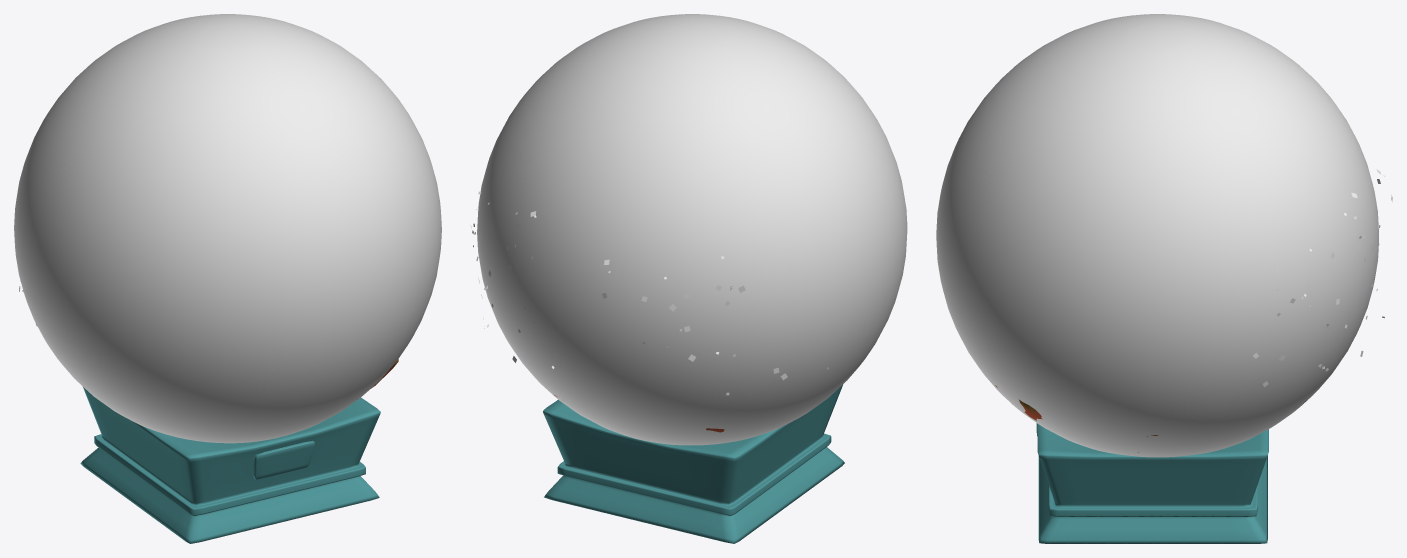
The model's file is treesketchfab1.fbx.
The picture shows the model from 3 angles, left to right: view 1: azimuth 30°, elevation 25°; view 2: azimuth 150°, elevation 25°; view 3: azimuth 270°, elevation 25°; orthographic projection. The views are drawn at different scales.
Parts seen in each view (by area): view 1: ball, Cube; view 2: ball, Cube, flowersecod.708; view 3: ball, Cube.
Boxes of the visible parts, left/top/right/bottom form: ball: left=14, top=14, right=441, bottom=443; Cube: left=80, top=386, right=380, bottom=543; ball: left=477, top=14, right=907, bottom=445; Cube: left=543, top=385, right=844, bottom=543; flowersecod.708: left=470, top=191, right=828, bottom=395; ball: left=936, top=14, right=1378, bottom=457; Cube: left=1036, top=423, right=1268, bottom=543.
Bounding box in the file's own units: 3753 × 4326 × 3867.
